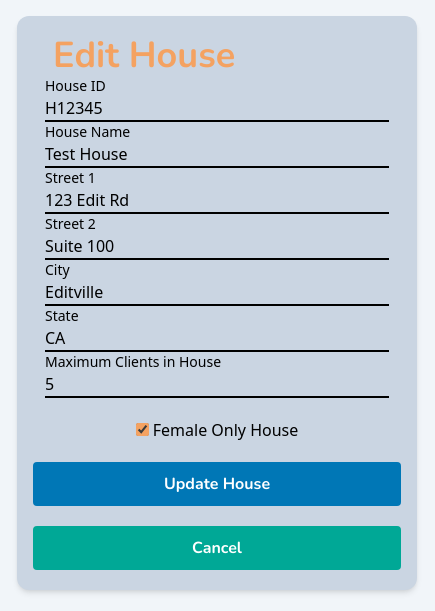
Edit House › should show validation errors
This screenshot has width=435, height=611.
Clear the field labelled "House Name" at (217, 155), box [45,142,389,168]
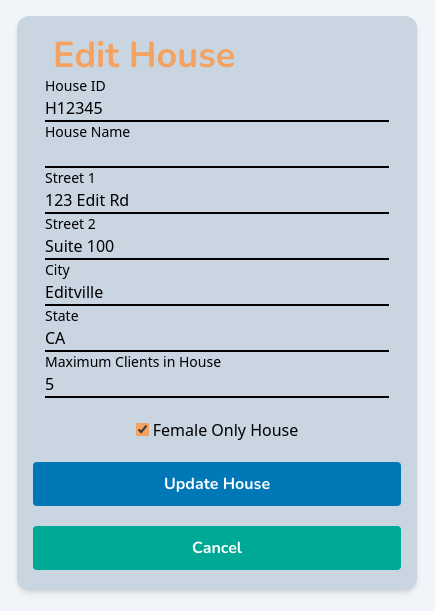
Click the button "Update House" at (217, 484), box [33,462,401,506]
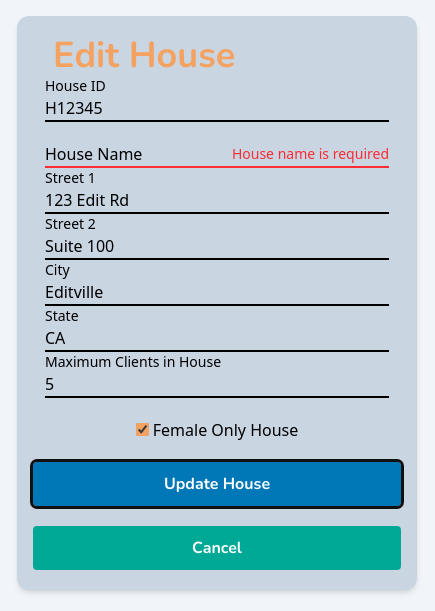
Result: the text "House name is required" is shown at [232,144,389,164]
